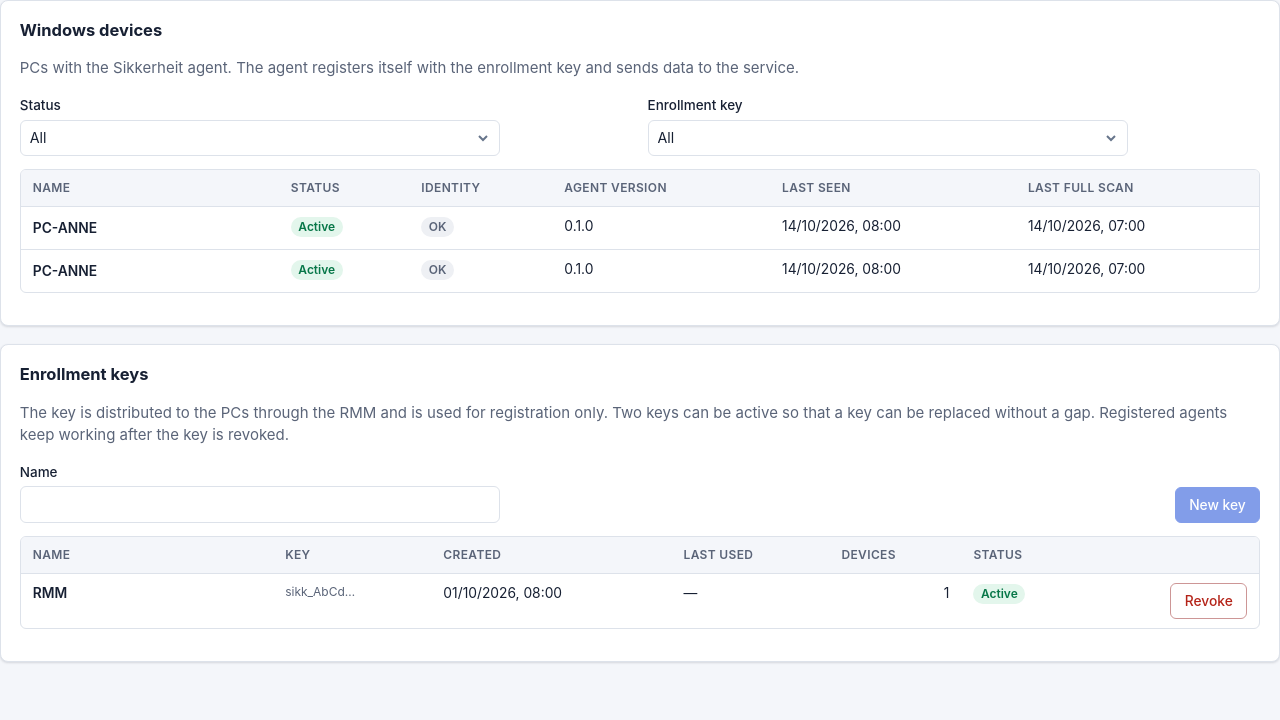
DevicesTab › filters by enrollment key and requires confirmation for a complete revocation snapshot
The width and height of the screenshot is (1280, 720).
Select "RMM (sikk_AbCd)" in the dropdown labelled "Enrollment key" at (888,138), box top-left (648, 120), bottom-right (1128, 156)
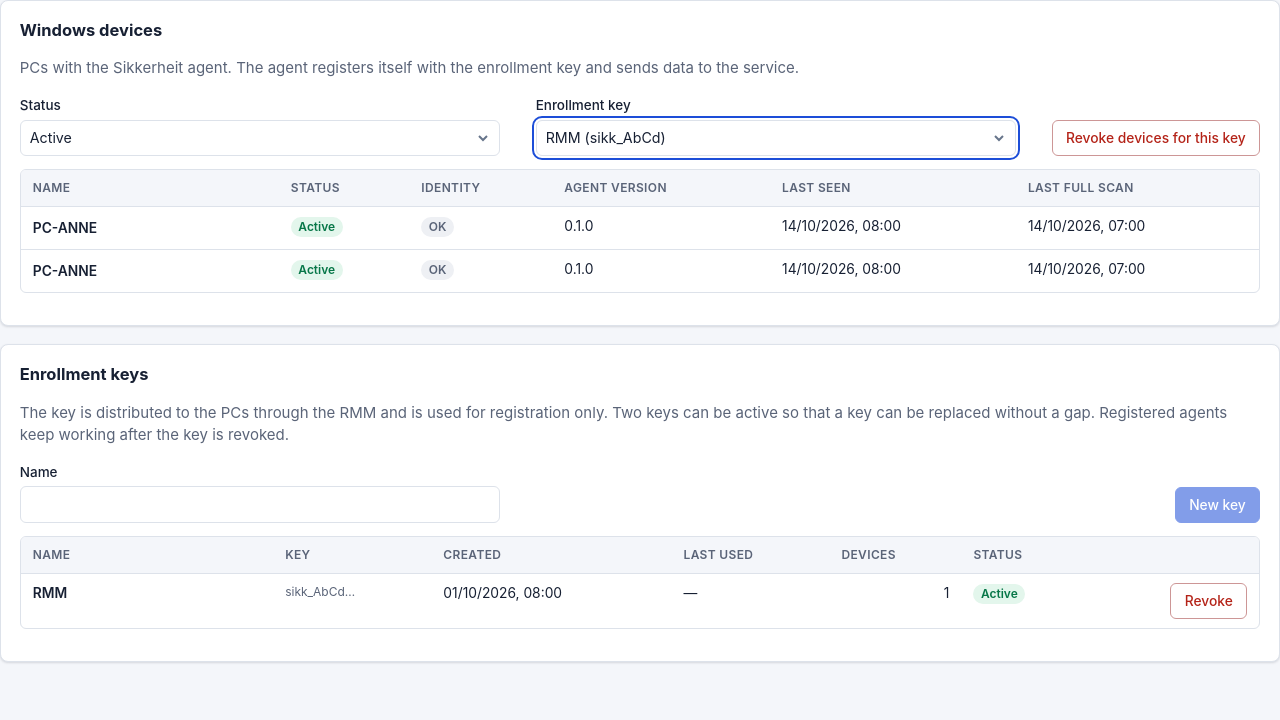
Click the button "Revoke devices for this key" at (1156,138), box top-left (1052, 120), bottom-right (1260, 156)
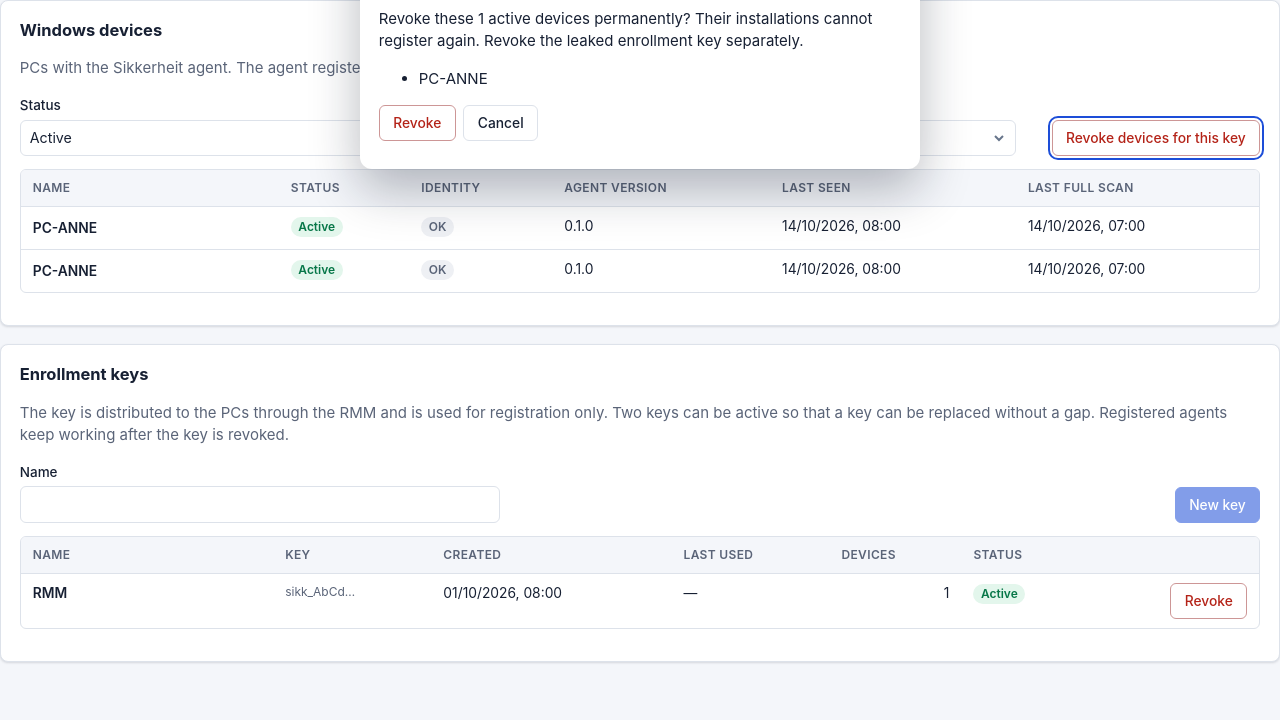
Click the button "Revoke" below "Windows devices" at (417,123), box top-left (379, 105), bottom-right (456, 141)
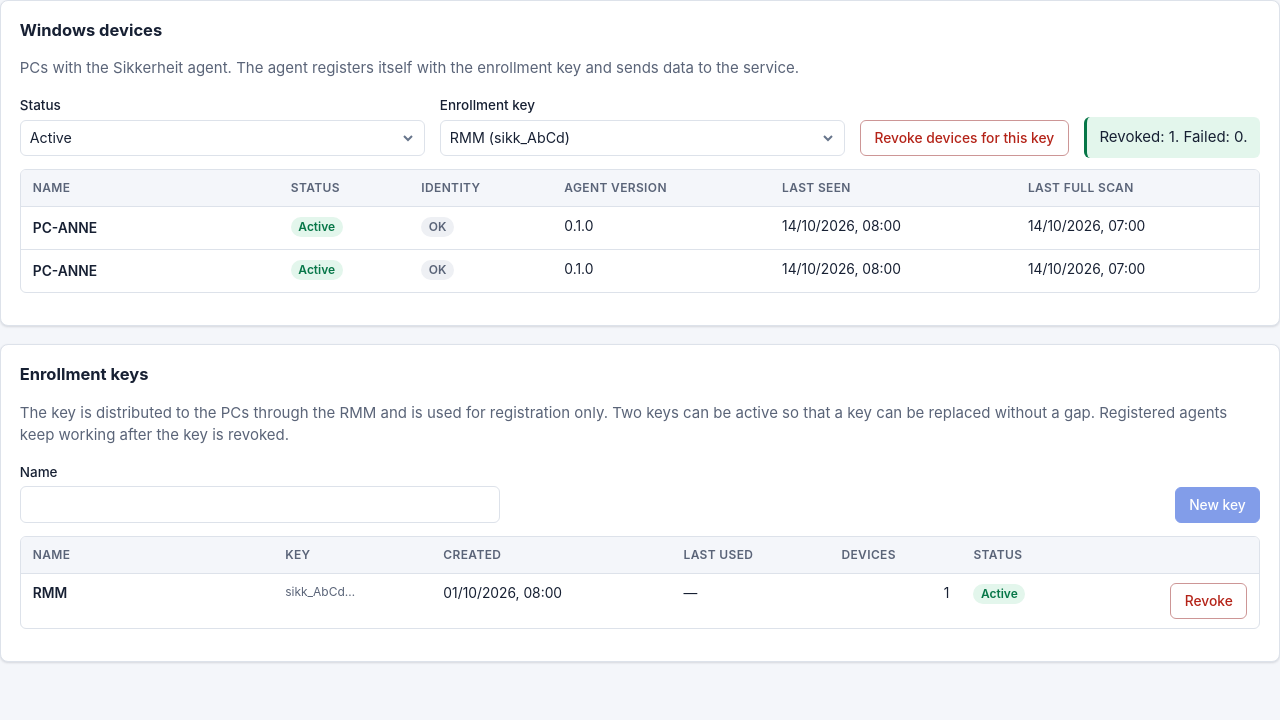
Expected: the text "Revoked: 1. Failed: 0." is shown, top-left (1084, 117), bottom-right (1260, 158)
